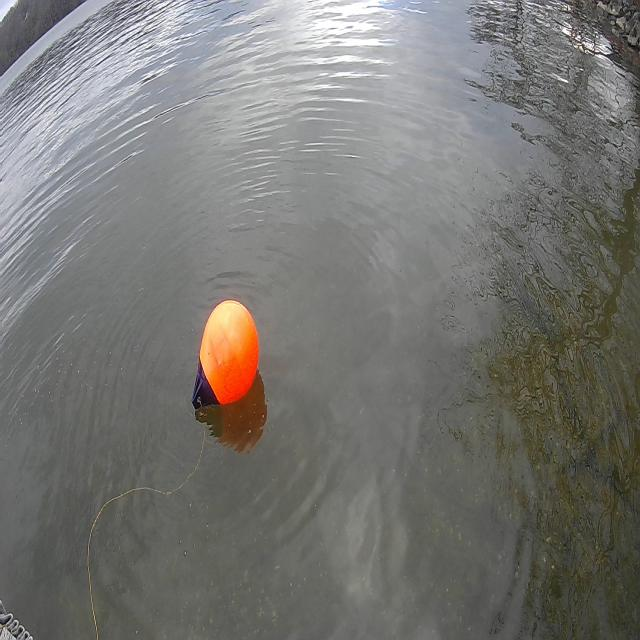Buoy: (188, 285, 262, 421)
